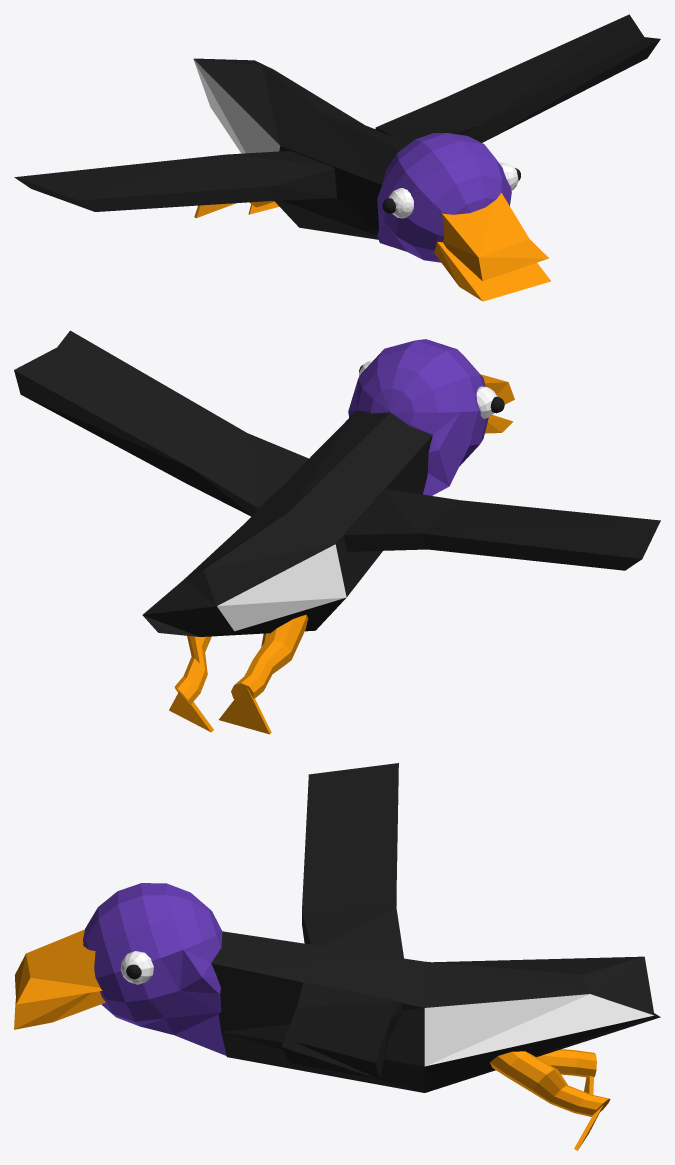
The model's file is pato.obj.
3 views of the same model, one above another, from view 1: azimuth 30°, elevation 25°; view 2: azimuth 150°, elevation 25°; view 3: azimuth 270°, elevation 25° (orthographic). The views are drawn at different scales.
Visible parts, largest first — view 1: group1099839163, group1692059423, group609062969, group670811835, group361199585; view 2: group1099839163, group609062969, group1692059423, group1484828750, group1322903102; view 3: group1099839163, group1692059423, group609062969, group670811835, group1322903102, group361199585, group1484828750.
Boxes of the visible parts, x1,y1,x2,y2 form: group1099839163: (193,58,518,262); group1692059423: (14,151,336,211); group609062969: (375,14,660,143); group670811835: (441,193,548,281); group361199585: (433,241,550,301); group1099839163: (142,339,497,636); group609062969: (14,330,308,516); group1692059423: (344,489,660,570); group1484828750: (219,614,308,734); group1322903102: (169,636,213,732); group1099839163: (83,883,660,1092); group1692059423: (302,763,403,958); group609062969: (282,982,403,1079); group670811835: (15,929,102,1004); group1322903102: (490,1051,610,1150); group361199585: (14,991,105,1029); group1484828750: (536,1049,596,1094).
Bounding box in the file's own units: 0.8929 × 0.3103 × 0.7503.
